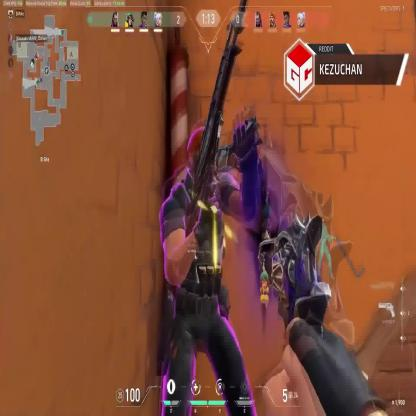enemy: (158, 116, 262, 416)
enemy_head: (186, 127, 217, 182)
